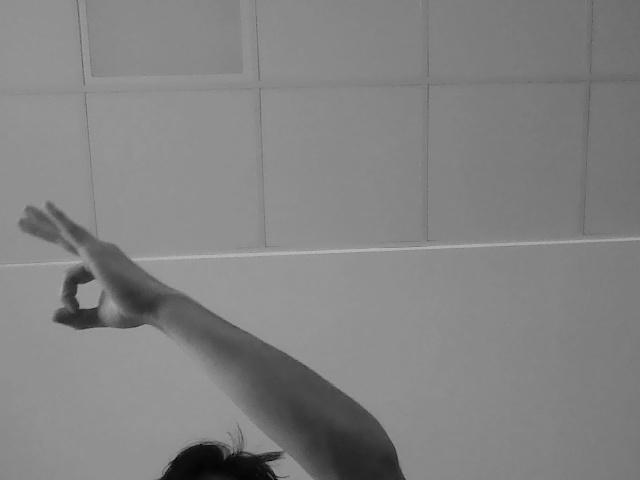OK: (12, 199, 150, 333)
